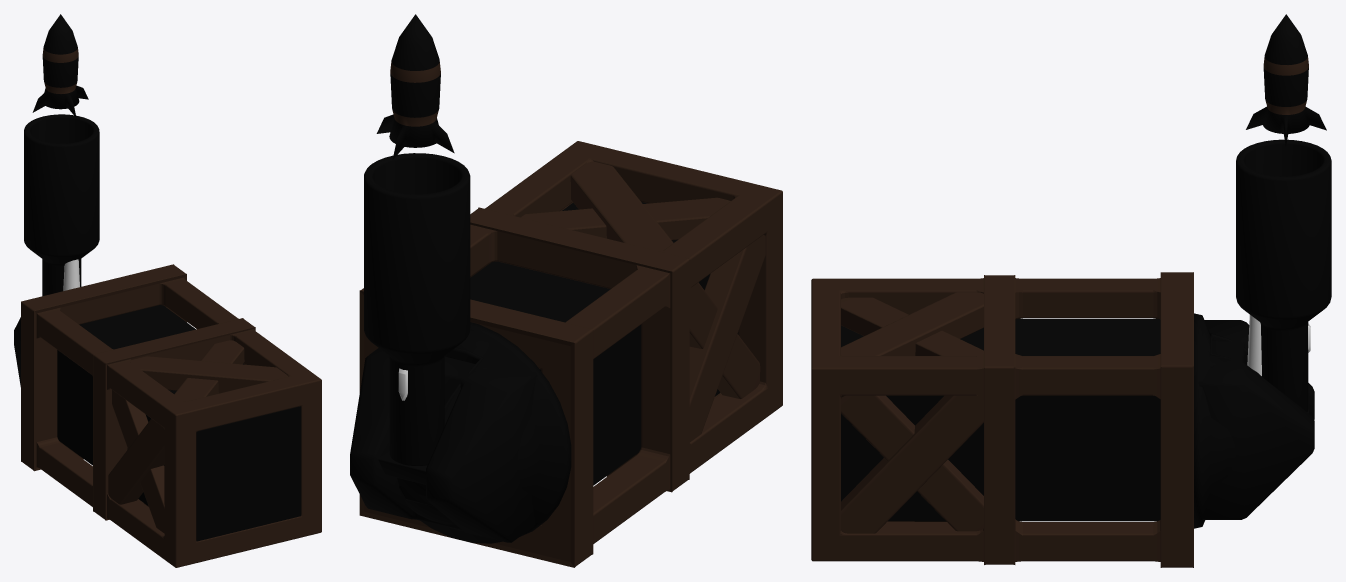
File: Tower.fbx
3 views of the same model, side by side, from view 1: azimuth 30°, elevation 25°; view 2: azimuth 150°, elevation 25°; view 3: azimuth 270°, elevation 25° (orthographic). The views are drawn at different scales.
Parts seen in each view (by area): view 1: Wood, BaseTower, MissileCanon, Missile, BulletCanon; view 2: Wood, MissileCanon, MissileROtation, BaseTower, BulletRotation, Missile; view 3: Wood, BaseTower, MissileCanon, MissileROtation, Missile, BulletRotation, BulletCanon.
Boxes of the visible parts, x1,y1,x2,y2 form: Wood: (21,264,321,567); BaseTower: (57,305,301,541); MissileCanon: (24,114,99,296); Missile: (32,14,88,117); BulletCanon: (63,259,79,290); Wood: (359,141,782,567); MissileCanon: (364,153,470,484); MissileROtation: (350,348,537,542); BaseTower: (470,202,738,485); BulletRotation: (397,322,571,543); Missile: (376,14,454,159); Wood: (811,272,1193,567); BaseTower: (841,318,1160,521); MissileCanon: (1236,139,1331,413); MissileROtation: (1198,320,1314,519); Missile: (1246,14,1326,146); BulletRotation: (1194,313,1262,528); BulletCanon: (1247,314,1261,375).
Bounding box in the file's own units: 682 × 293 × 734.
